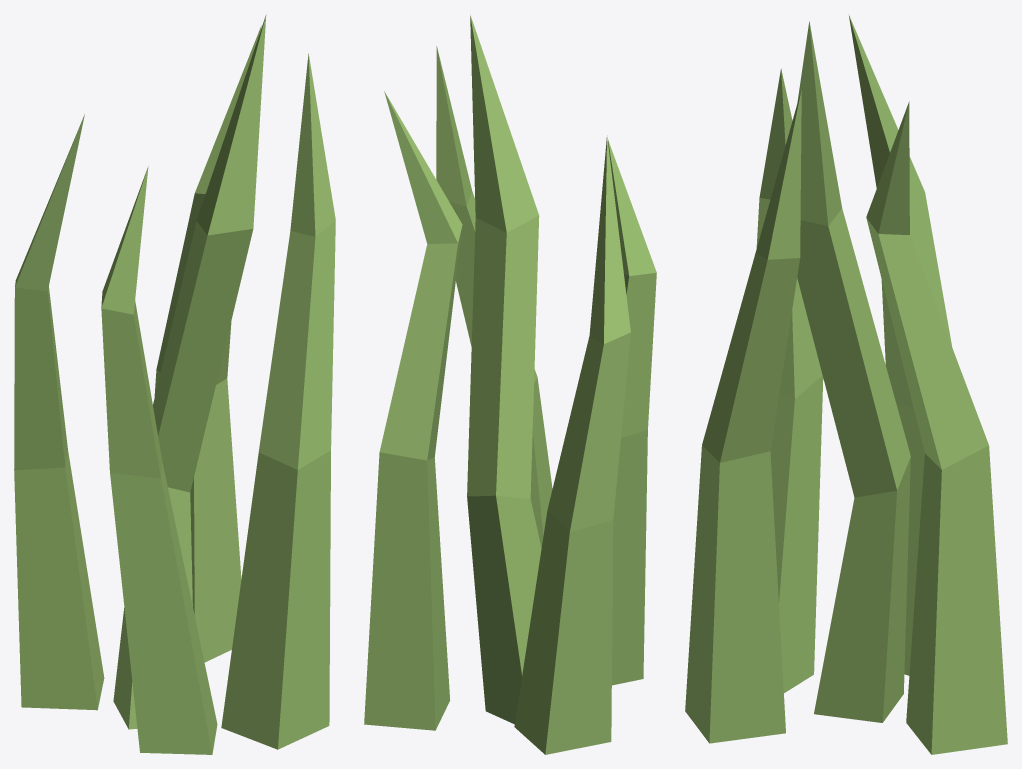
Rendered from Grass_2.fbx.
3 views of the same model, side by side, from view 1: azimuth 30°, elevation 25°; view 2: azimuth 150°, elevation 25°; view 3: azimuth 270°, elevation 25° (orthographic). The views are drawn at different scales.
Parts seen in each view (by area): view 1: Grass; view 2: Grass; view 3: Grass.
Boxes of the visible parts, x1,y1,x2,y2 form: Grass: (14, 14, 335, 754); Grass: (364, 15, 656, 754); Grass: (685, 14, 1007, 754).
Bounding box in the file's own units: 35.48 × 90.56 × 36.34.
